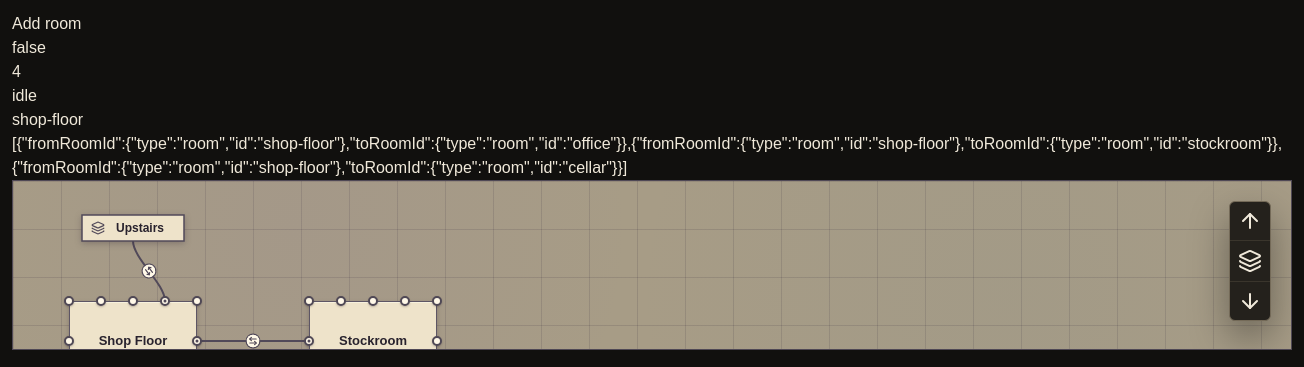
Scenario: Map visual layers › renames the active layer from the layer menu
Click the button named "Layers · Main floor" at (1250, 261), box [1230,240,1270,282]
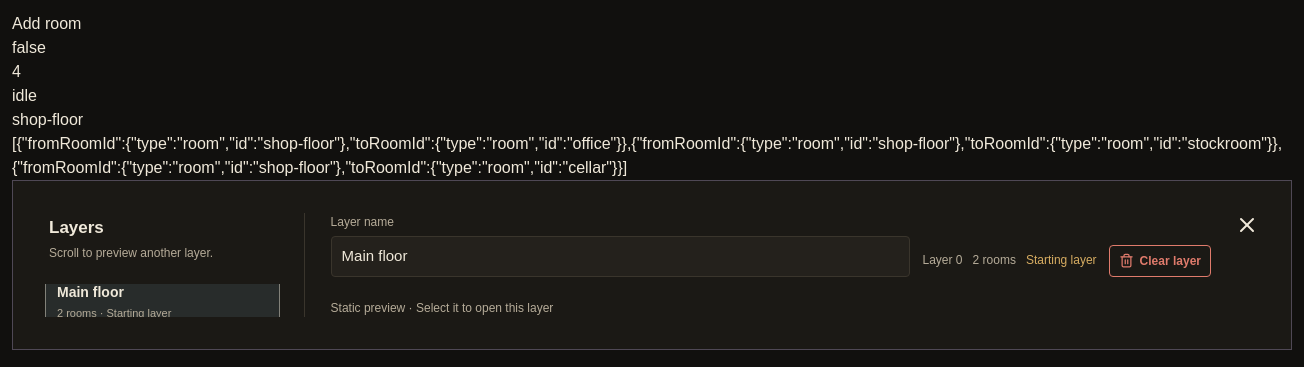
Replace the text in the field labelled "Layer name" with "Street level" at (621, 256), box [331,236,910,276]
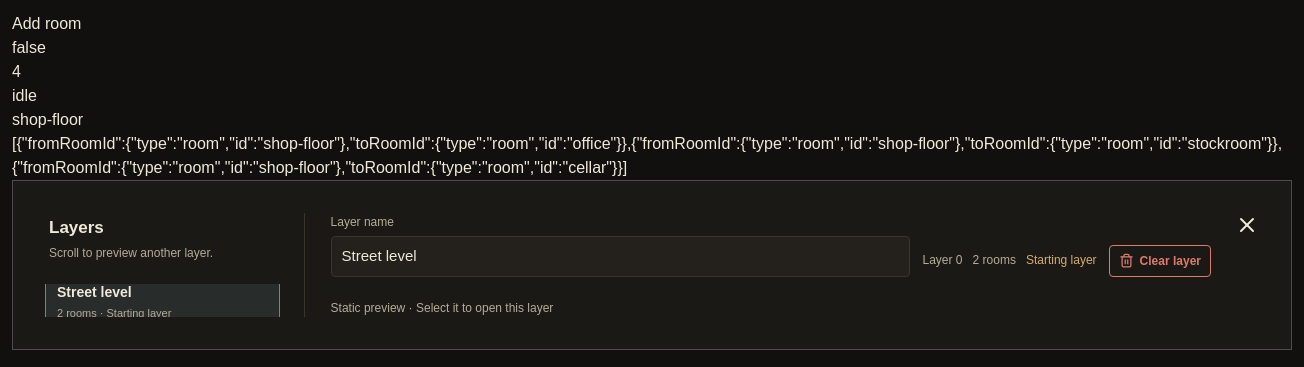
Click the button named "Close layer menu" at (1247, 225), box [1235,213,1259,237]
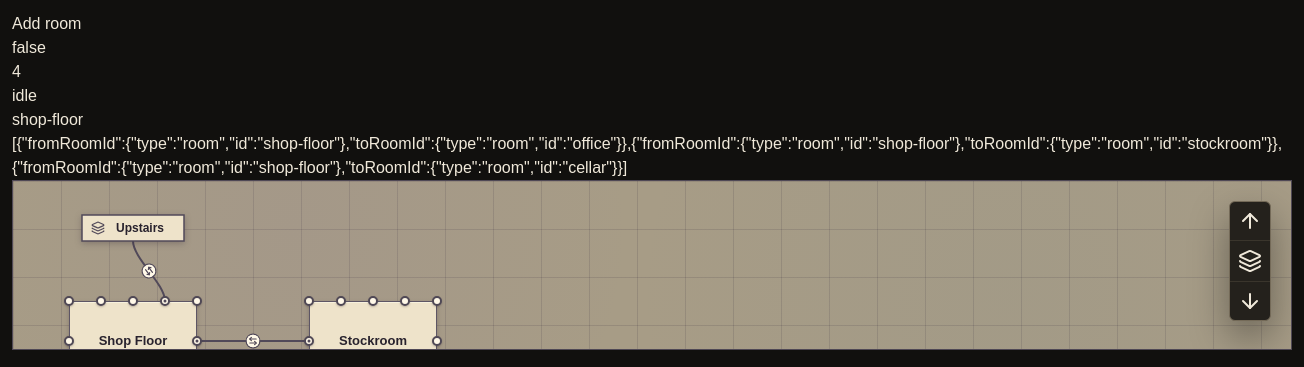
Now the button named "Layers · Street level" is shown, box [1230,240,1270,282]
